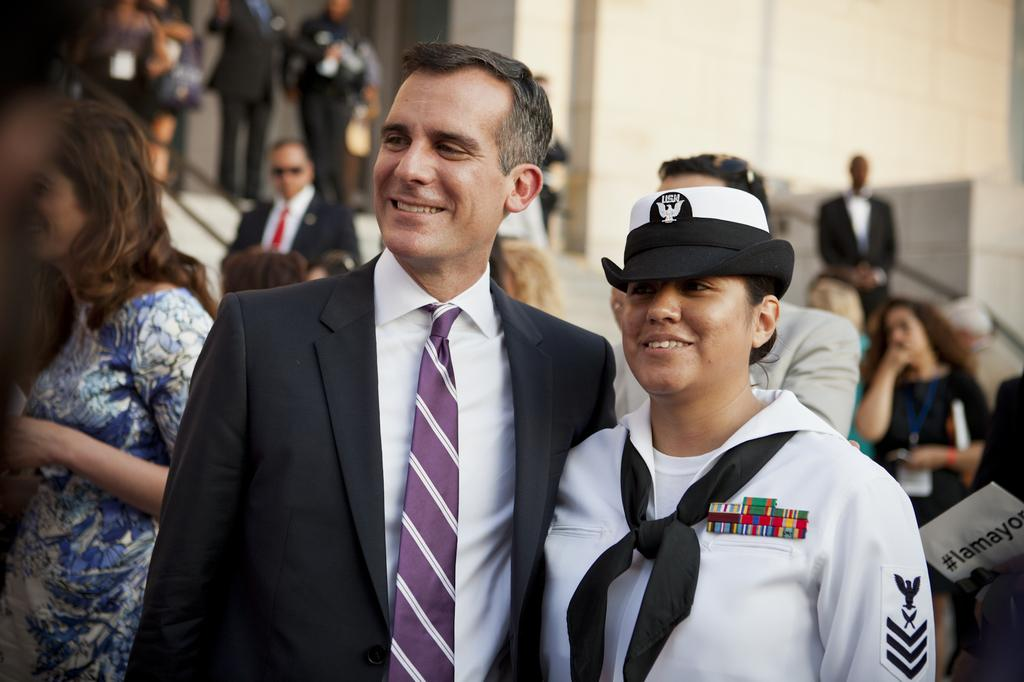Hat: (598, 183, 794, 296)
